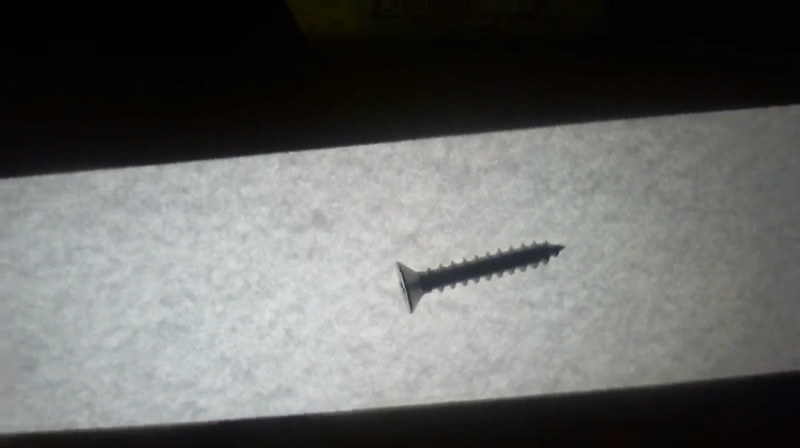S001: (393, 232, 570, 316)
